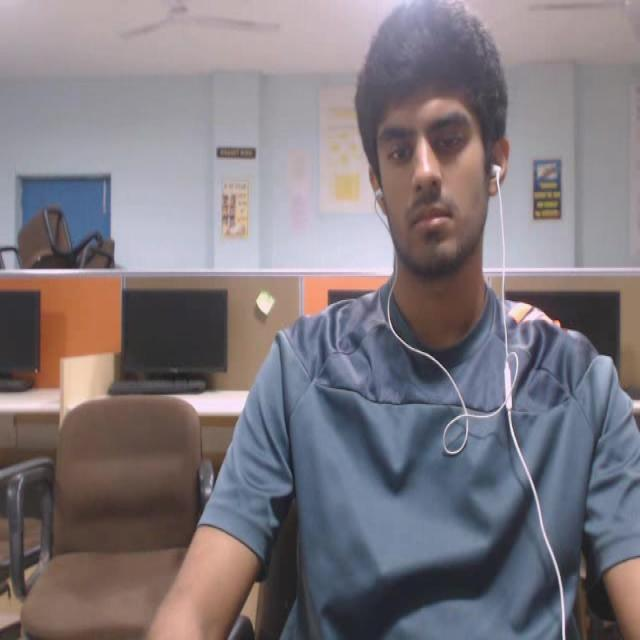Engaged: (324, 0, 541, 320)
